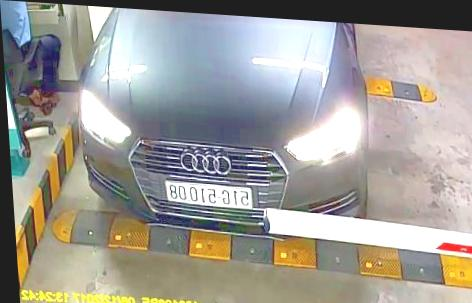License_Plate: (162, 174, 259, 211)
